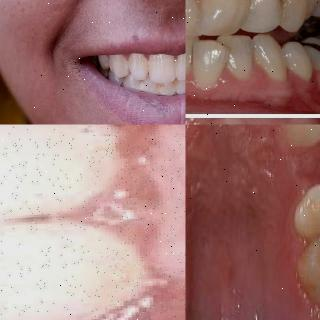Gum Swelling: (53, 124, 185, 320)
maligned: (190, 37, 230, 89)
plaque: (37, 229, 151, 320), (26, 124, 126, 208), (273, 0, 292, 22), (142, 57, 156, 77), (168, 56, 182, 76), (156, 75, 167, 97), (138, 74, 147, 94), (168, 80, 180, 92)
